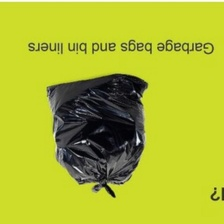plastic_bag: (40, 69, 155, 203)
